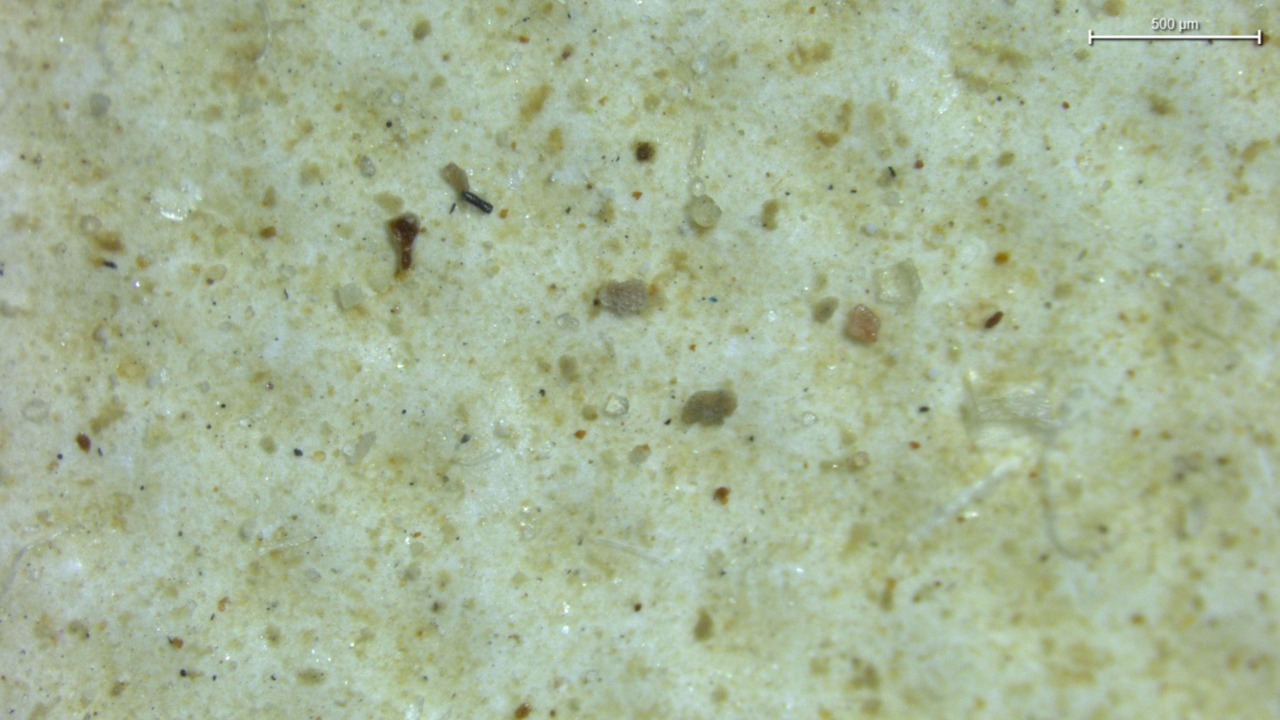microplastic_fragment: (875, 260, 922, 306), (595, 280, 649, 316), (689, 195, 722, 228), (335, 282, 367, 310), (604, 395, 629, 417)
